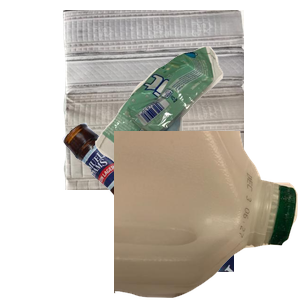glass: (60, 120, 300, 300)
paper: (60, 10, 300, 190)
plastic: (114, 131, 300, 300)
trash: (92, 44, 300, 211)
